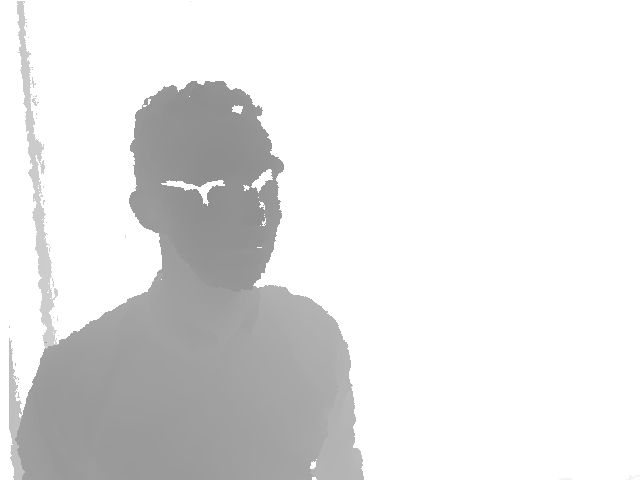head: (128, 79, 285, 295)
person: (12, 80, 368, 480)
